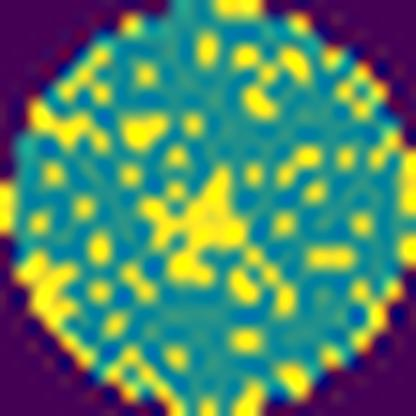Center: (142, 168, 257, 289)
